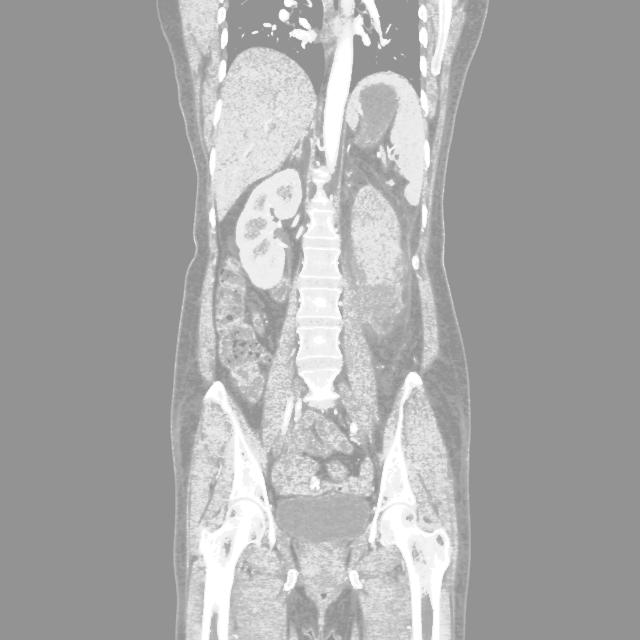TUMOR: (324, 116, 503, 433)
